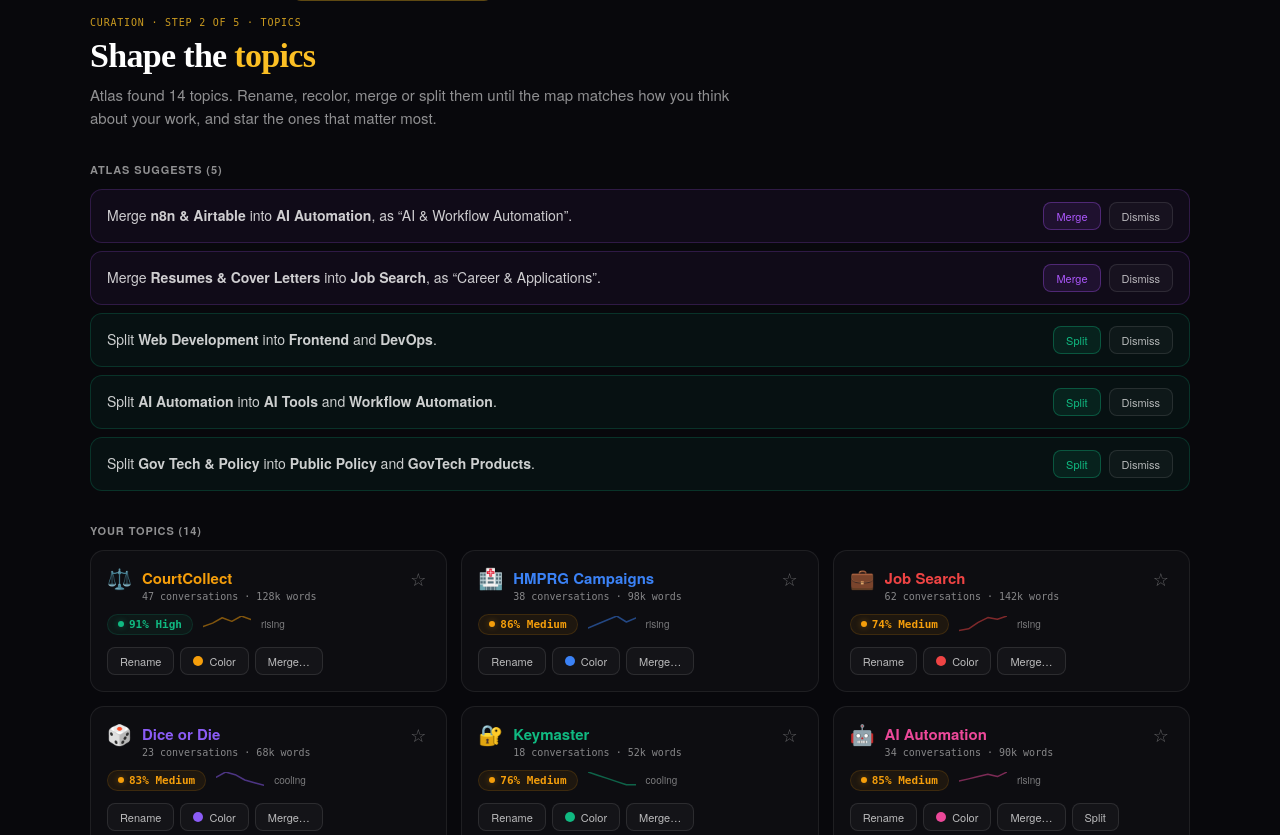
Test: <TopicCurationPanel> › applies a suggested merge from the suggestions list, and undo brings the topic back
Click the button "Merge" in the row of "AI & Workflow Automation": (1072, 216) x1=1043 y1=202 x2=1100 y2=230
(page scrolled)
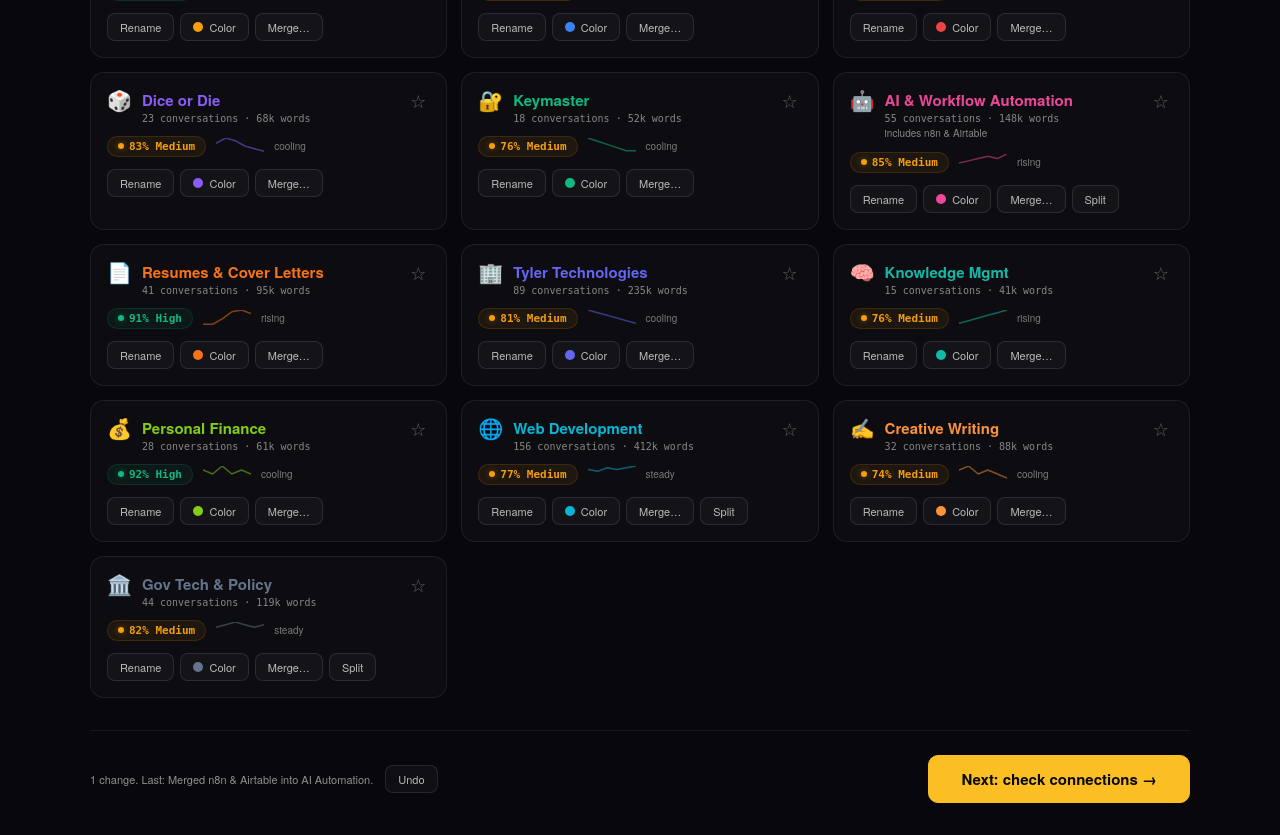
Check: the element "AI & Workflow Automation" is shown, box x1=833 y1=72 x2=1190 y2=230
Click the button "Undo": (411, 779) x1=385 y1=765 x2=438 y2=793
(page scrolled)
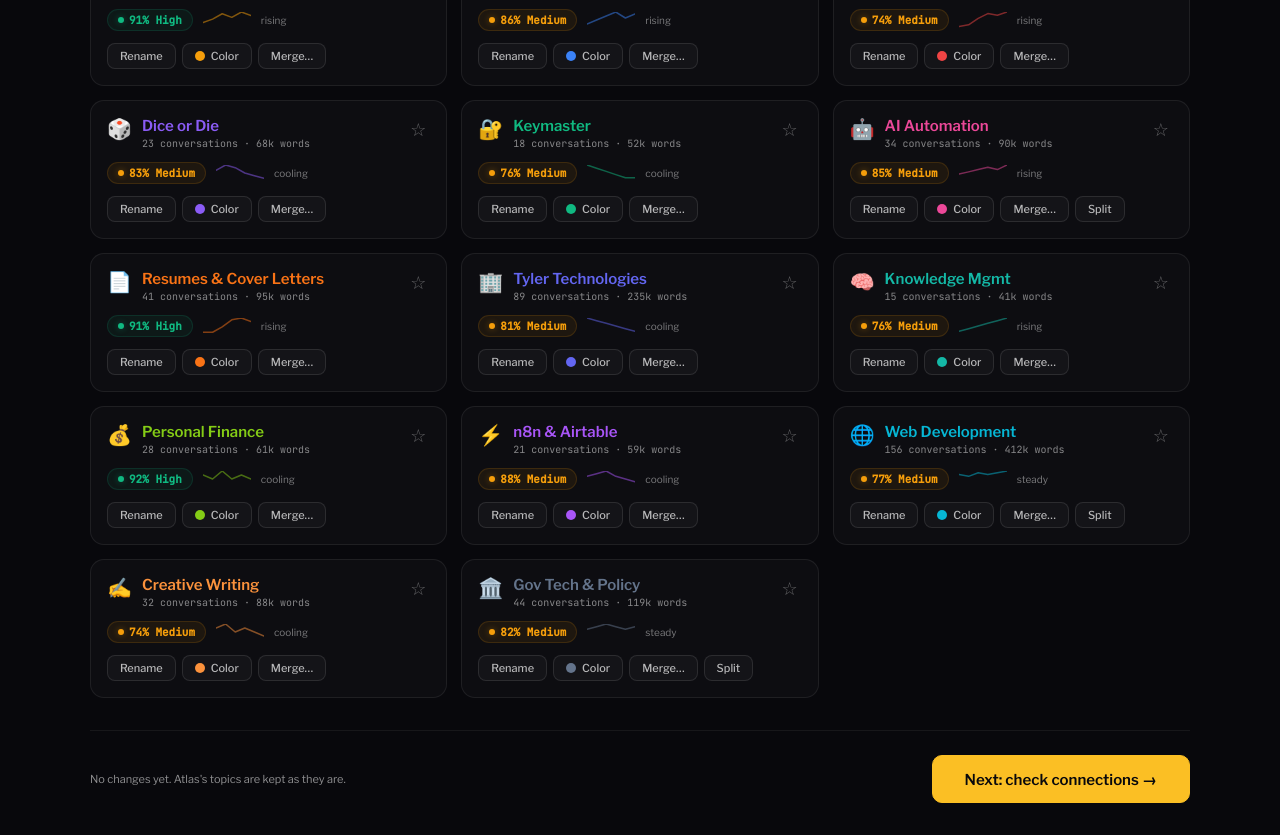
Check: the element "n8n & Airtable" is shown, box x1=461 y1=406 x2=819 y2=545
